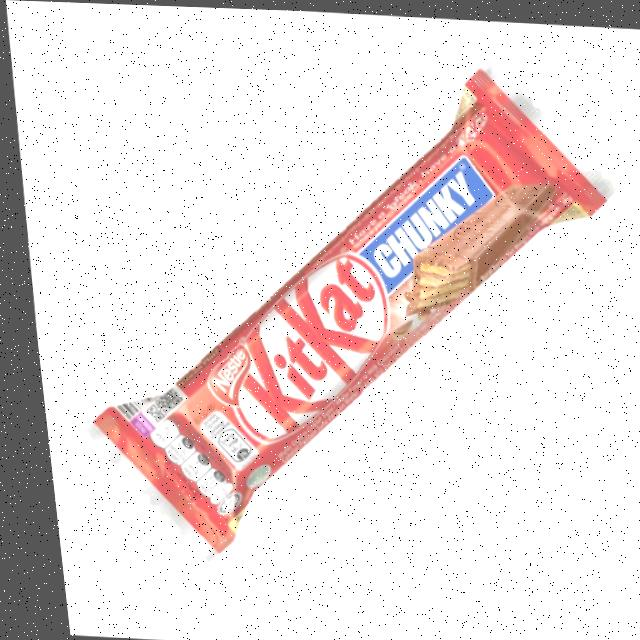kitkat: (34, 31, 640, 578)
